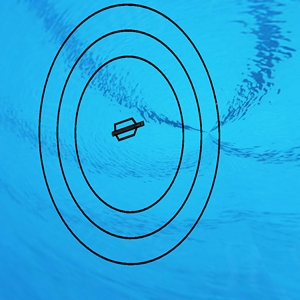circle: (31, 2, 227, 283)
submarine: (112, 117, 143, 144)
